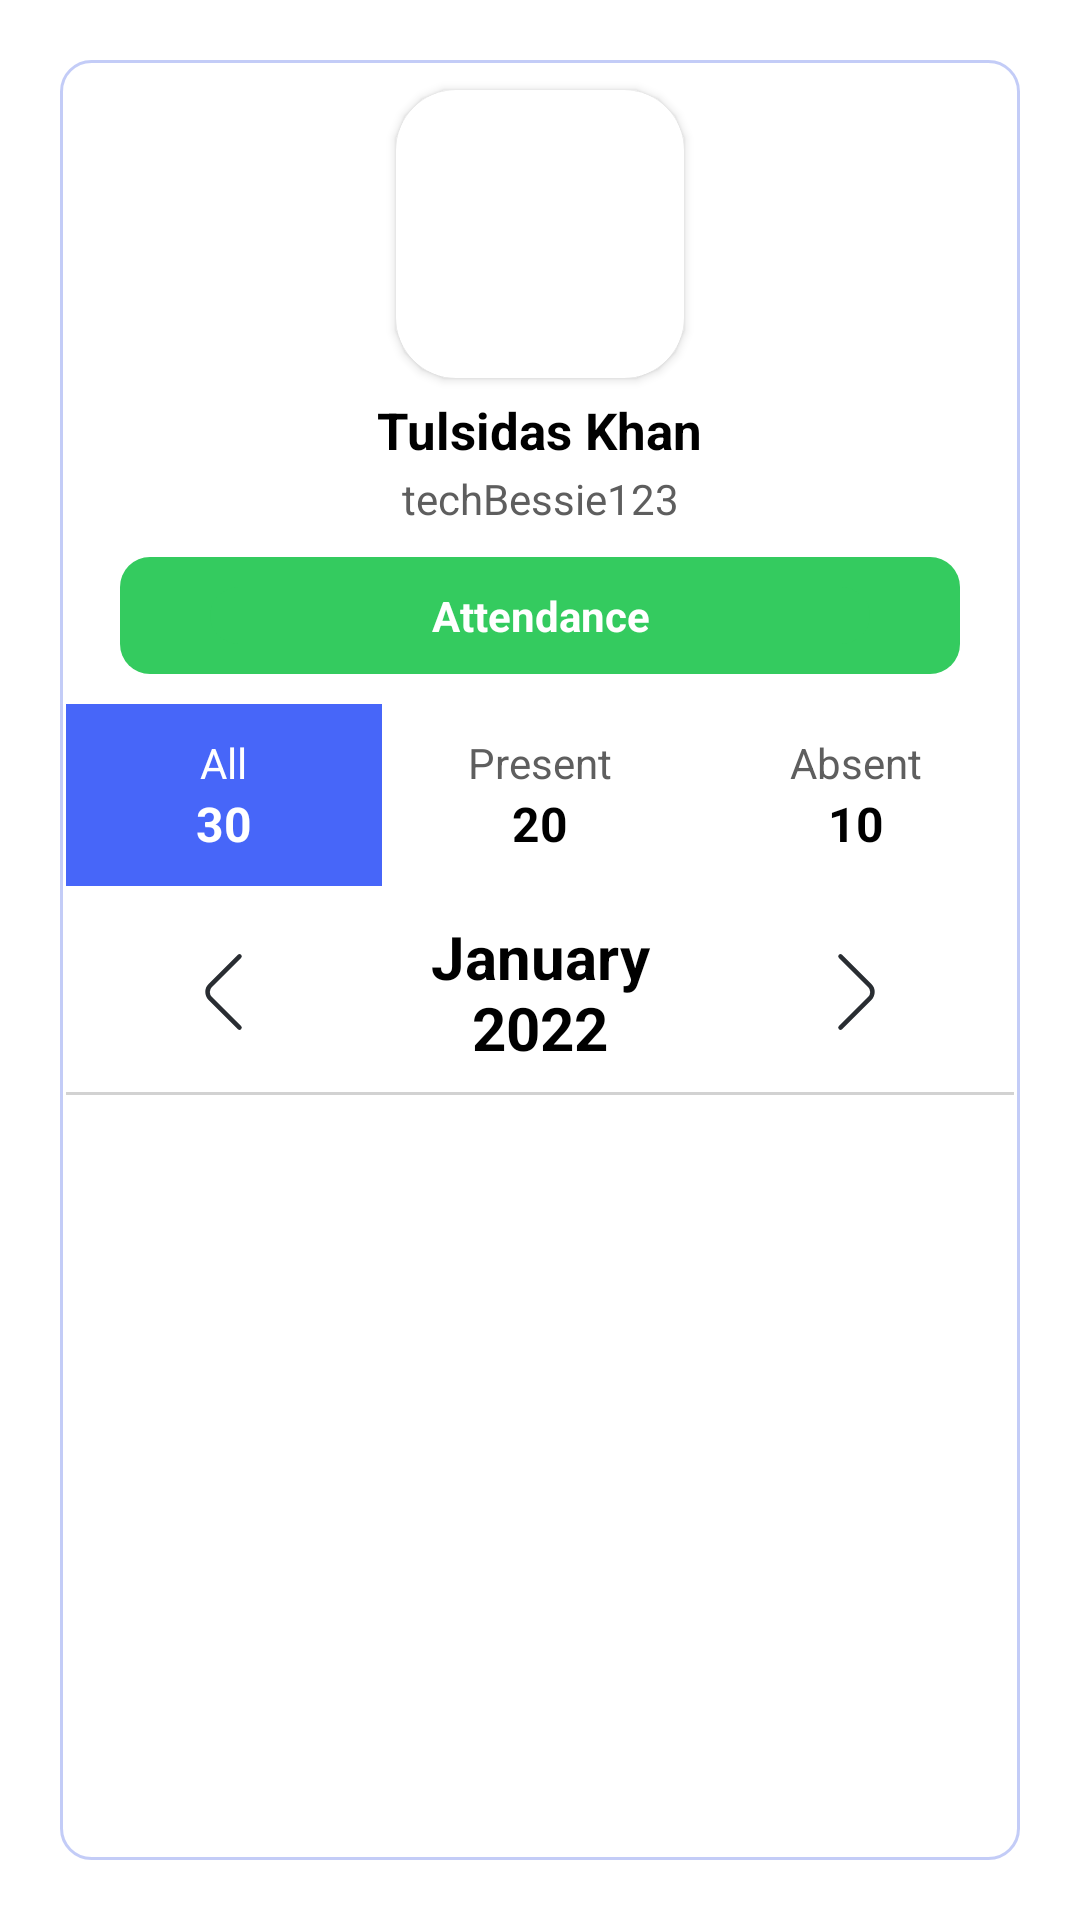

Icons on this 1080 x 1920 Android screen, each with its box as (x1, y1, x2, y2):
back: (205, 954, 242, 1030)
next: (838, 954, 875, 1030)
